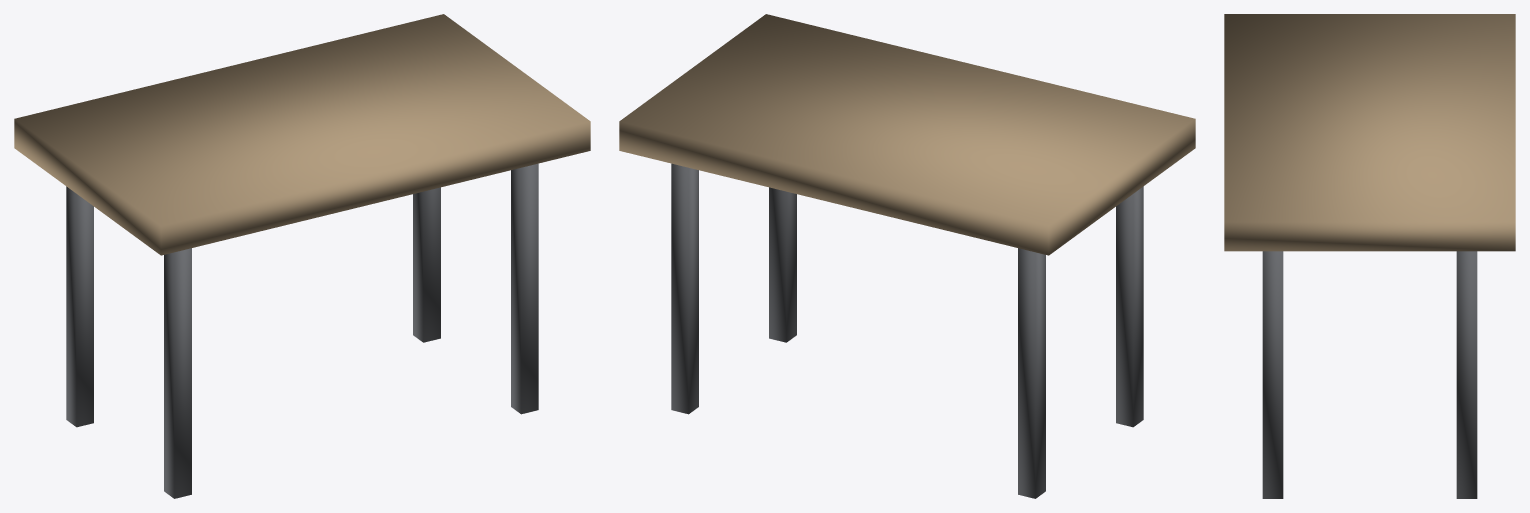
The model's file is dining_table__compact.glb.
3 renders of one model, left to right at view 1: azimuth 30°, elevation 25°; view 2: azimuth 150°, elevation 25°; view 3: azimuth 270°, elevation 25°, orthographic.
Parts seen in each view (by area): view 1: world; view 2: world; view 3: world.
Boxes of the visible parts, x1,y1,x2,y2 form: world: (14,14,590,498); world: (619,14,1195,498); world: (1224,14,1515,498).
Bounding box in the file's own units: 1.13 × 0.744 × 0.6708.
